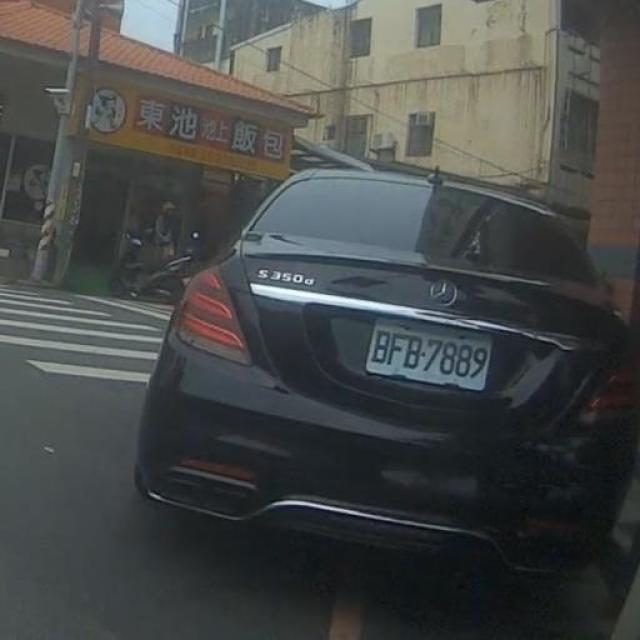illegalparking: (130, 51, 618, 640)
